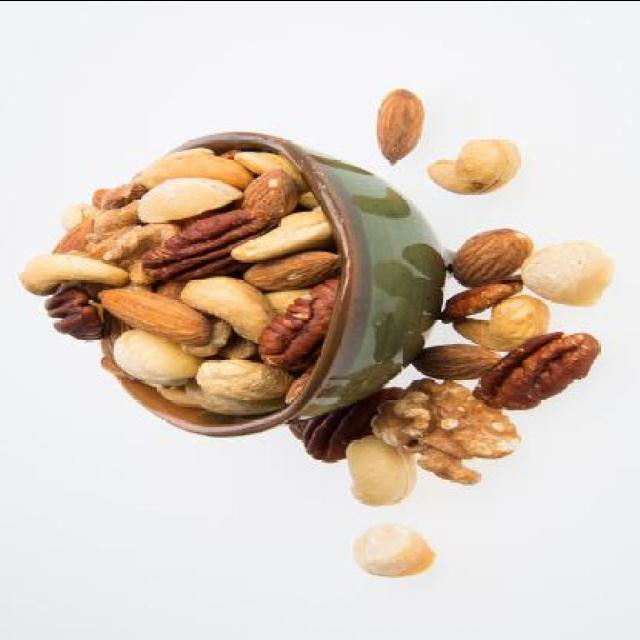Frutta secca: (15, 135, 352, 417)
